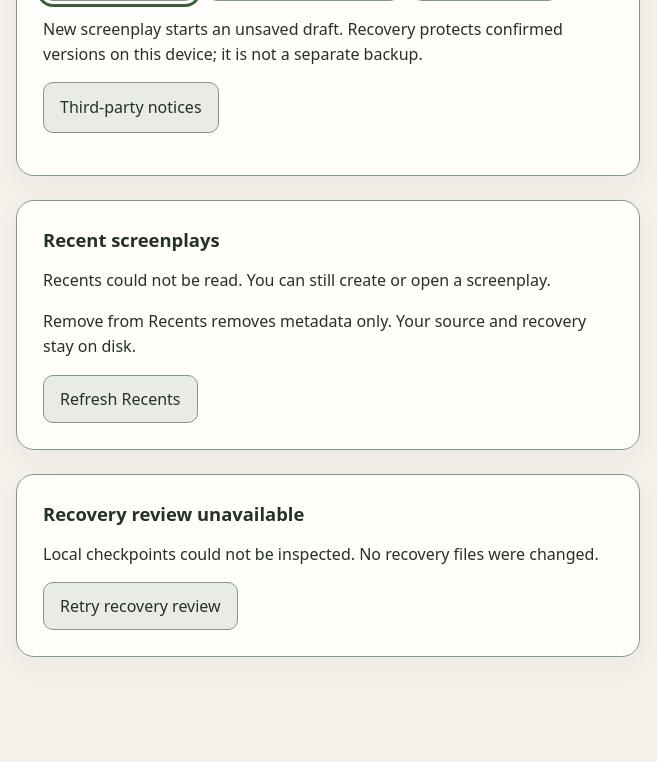
Test: M4-02 Home (injected native ports) › isolates registry failures and allows a refresh retry
(page scrolled)
Expected: the text "Recents could not be read. You can still create or open a screenplay." is shown, [43,268,613,293]
Click the button "Refresh Recents" at (120, 398), box [43,374,198,422]
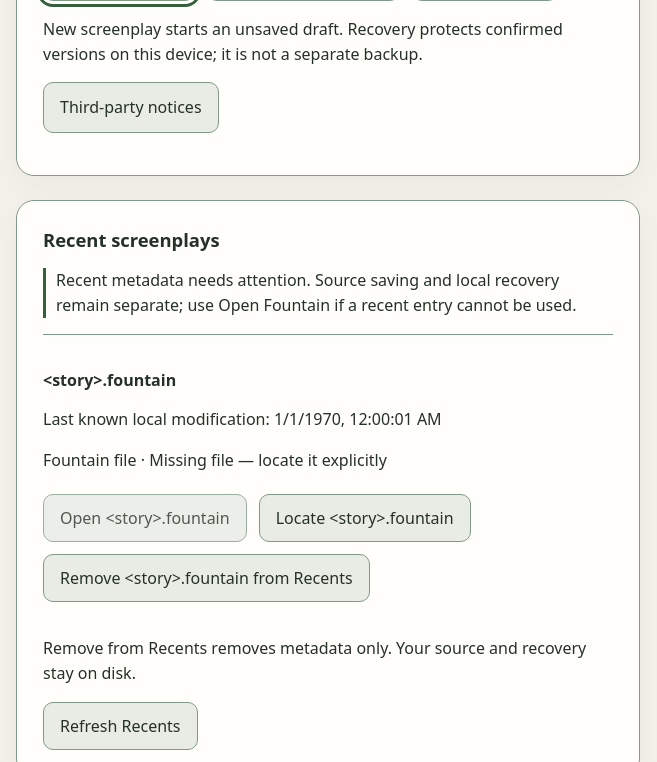
Expected: the text "Recent metadata needs attention" is shown, [56,269,576,316]
